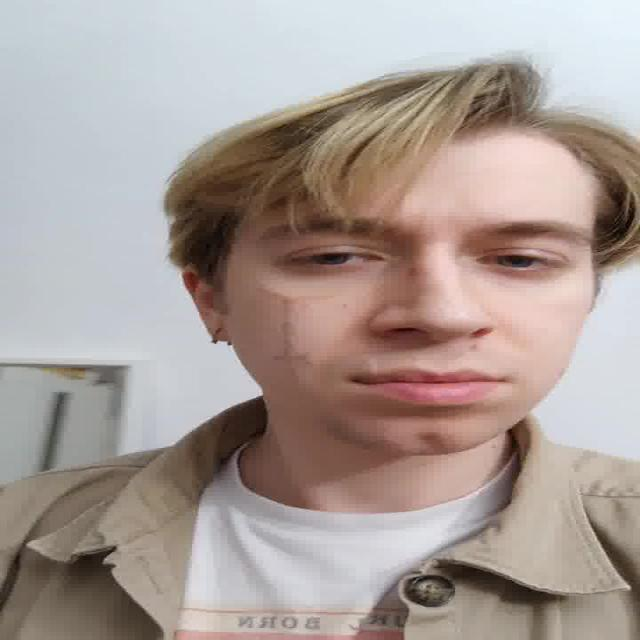earlobe: (199, 311, 231, 343)
eye: (285, 243, 382, 271), (478, 251, 564, 271)
nose: (376, 331, 494, 368)
wholeear: (180, 268, 231, 343)
